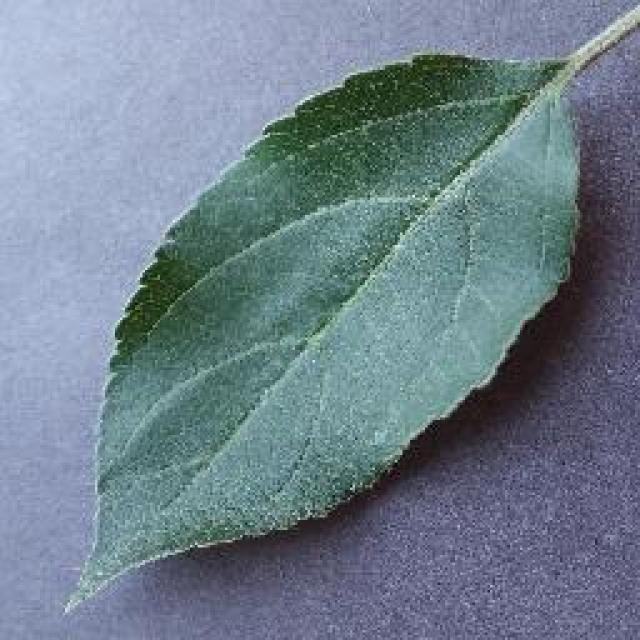apple healthy: (58, 0, 638, 618)
